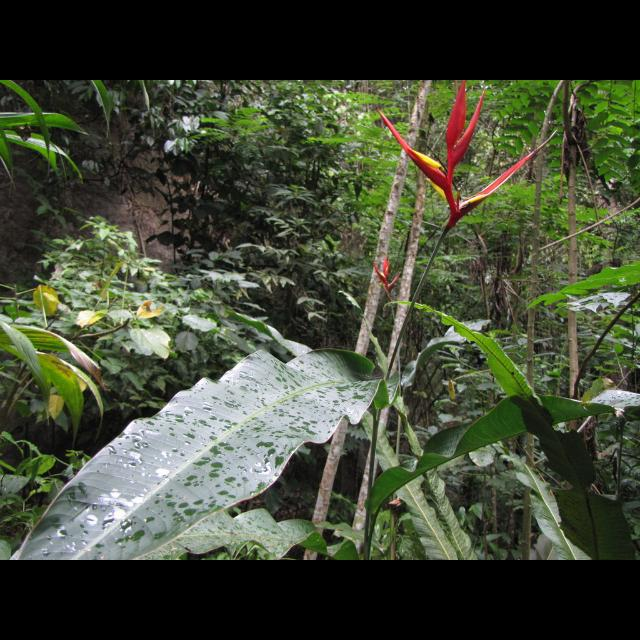Flower: (373, 80, 559, 230), (372, 254, 402, 298)
